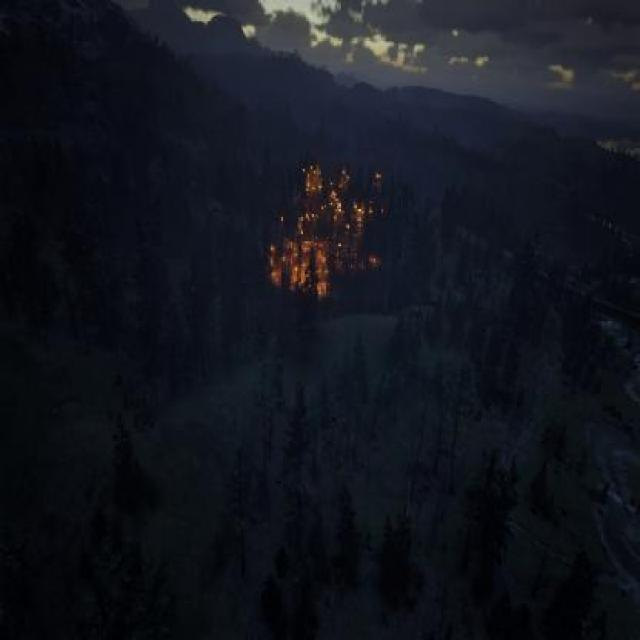Fire: (252, 137, 394, 308)
